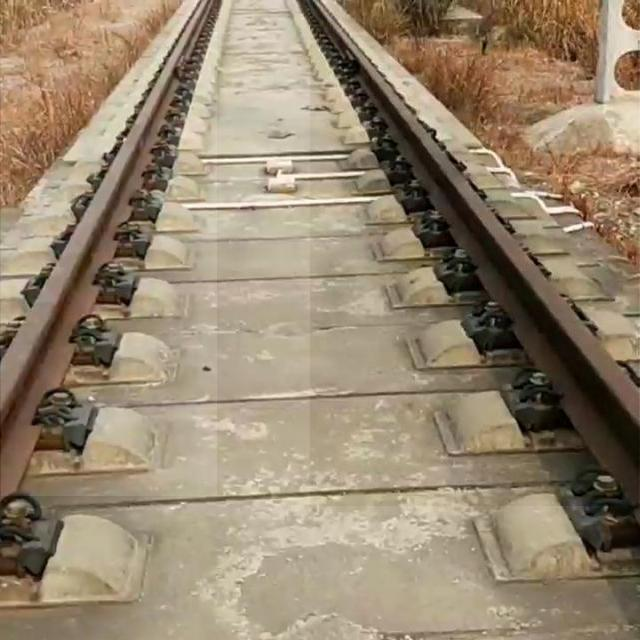rail: (312, 1, 640, 507), (2, 1, 218, 497)
